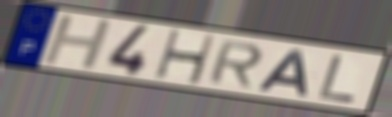4: (104, 22, 152, 78)
A: (255, 48, 312, 99)
H: (39, 14, 116, 71), (153, 27, 218, 87)
L: (315, 53, 358, 105)
R: (205, 39, 266, 90)
